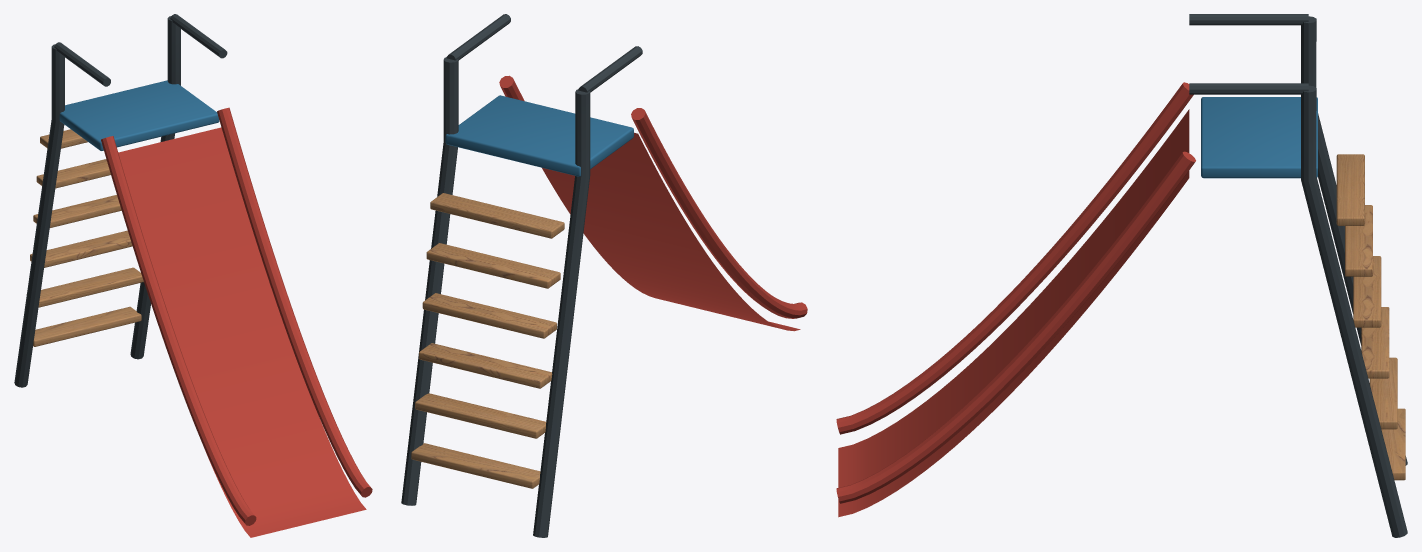
File: tobogan_parque_base.glb
3 views of the same model, side by side, from view 1: azimuth 30°, elevation 25°; view 2: azimuth 150°, elevation 25°; view 3: azimuth 270°, elevation 25° (orthographic). The views are drawn at different scales.
Parts seen in each view (by area): view 1: tobogan_parque_base; view 2: tobogan_parque_base; view 3: tobogan_parque_base.
Part boxes in pixels (box(x1,y1,x2,y2)): tobogan_parque_base: box(14, 14, 372, 537); tobogan_parque_base: box(401, 14, 807, 537); tobogan_parque_base: box(836, 14, 1407, 537).
Bounding box in the file's own units: 0.7701 × 2.13 × 2.44.
Materials: 4 (1 with a texture image).
